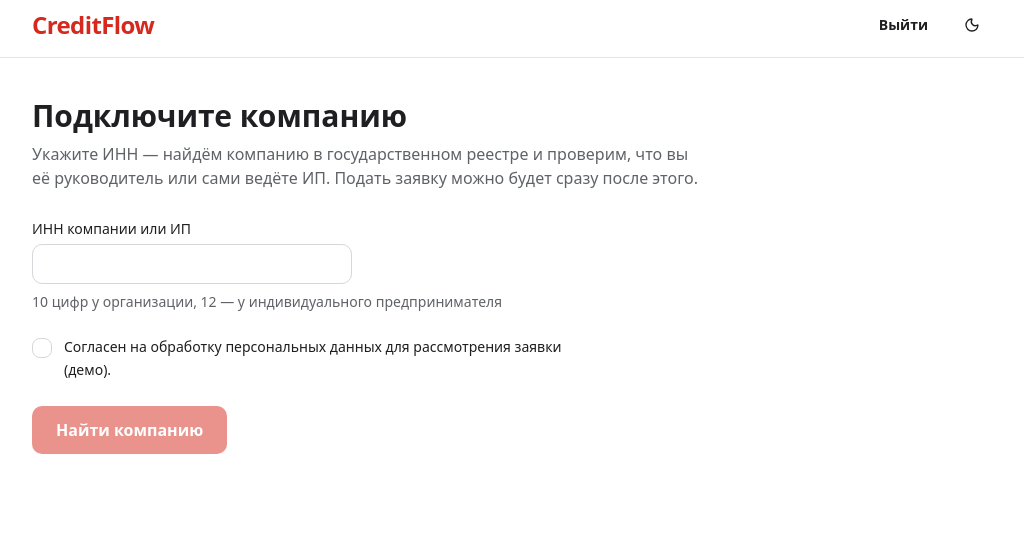
Test: привязка компании › руководитель находит компанию и переходит к заявкам
Check: the heading "Подключите компанию" is shown, box [32,95,407,136]
Type "0099020010" into the field labelled "ИНН компании или ИП".
click(192, 264); type("0099020010")  # box [32,244,352,284]
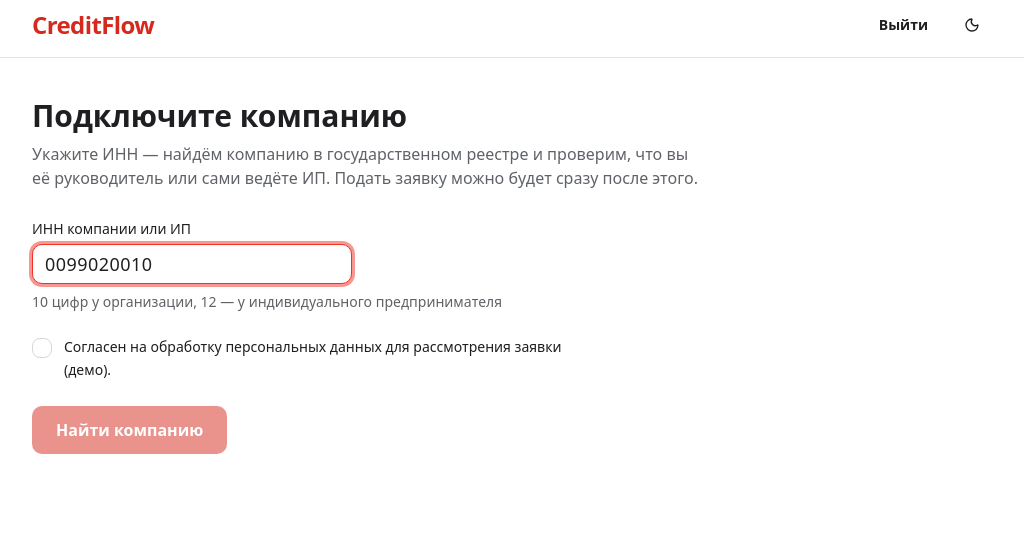
Click the checkbox.
click(42, 348)  # box [32,338,52,358]
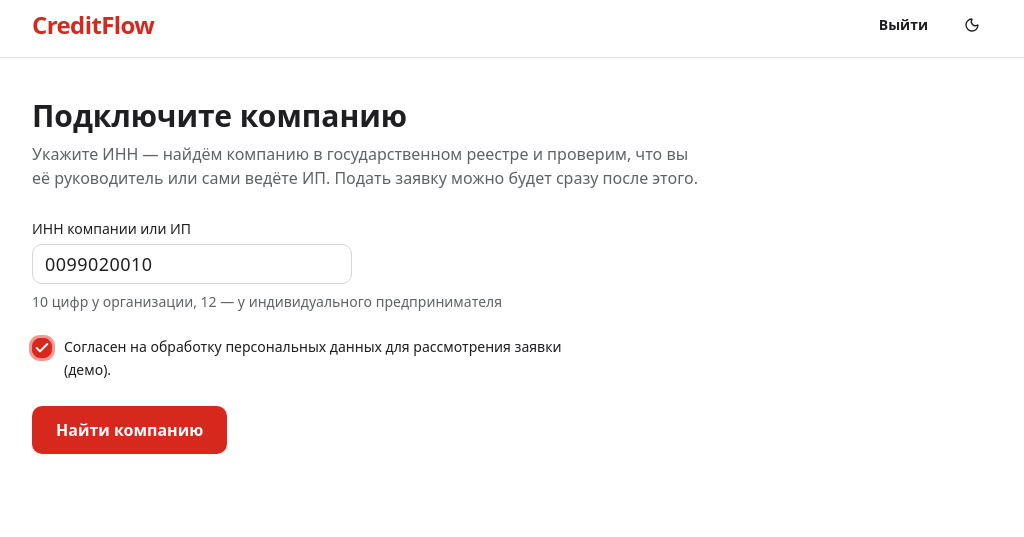
Click the button "Найти компанию".
click(130, 430)  # box [32,406,227,454]
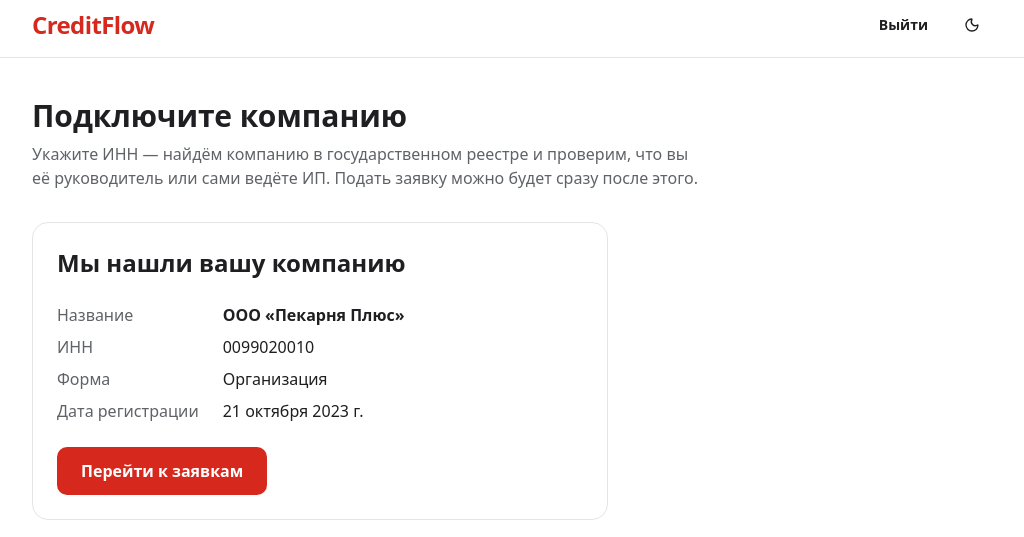
Check: the heading "Мы нашли вашу компанию" is shown, box [57,246,406,279]
Check: the text "ООО «Пекарня Плюс»" is shown, box [223,304,405,326]
Click the link "Перейти к заявкам".
click(162, 471)  # box [57,447,267,495]
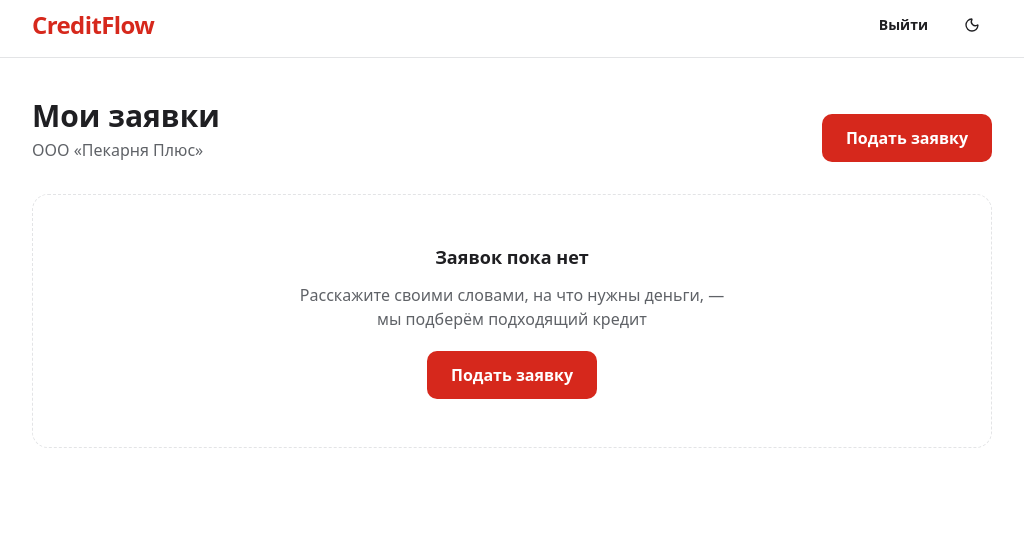
Check: the heading "Мои заявки" is shown, box [32,98,220,134]
Check: the heading "Заявок пока нет" is shown, box [435,243,589,271]
